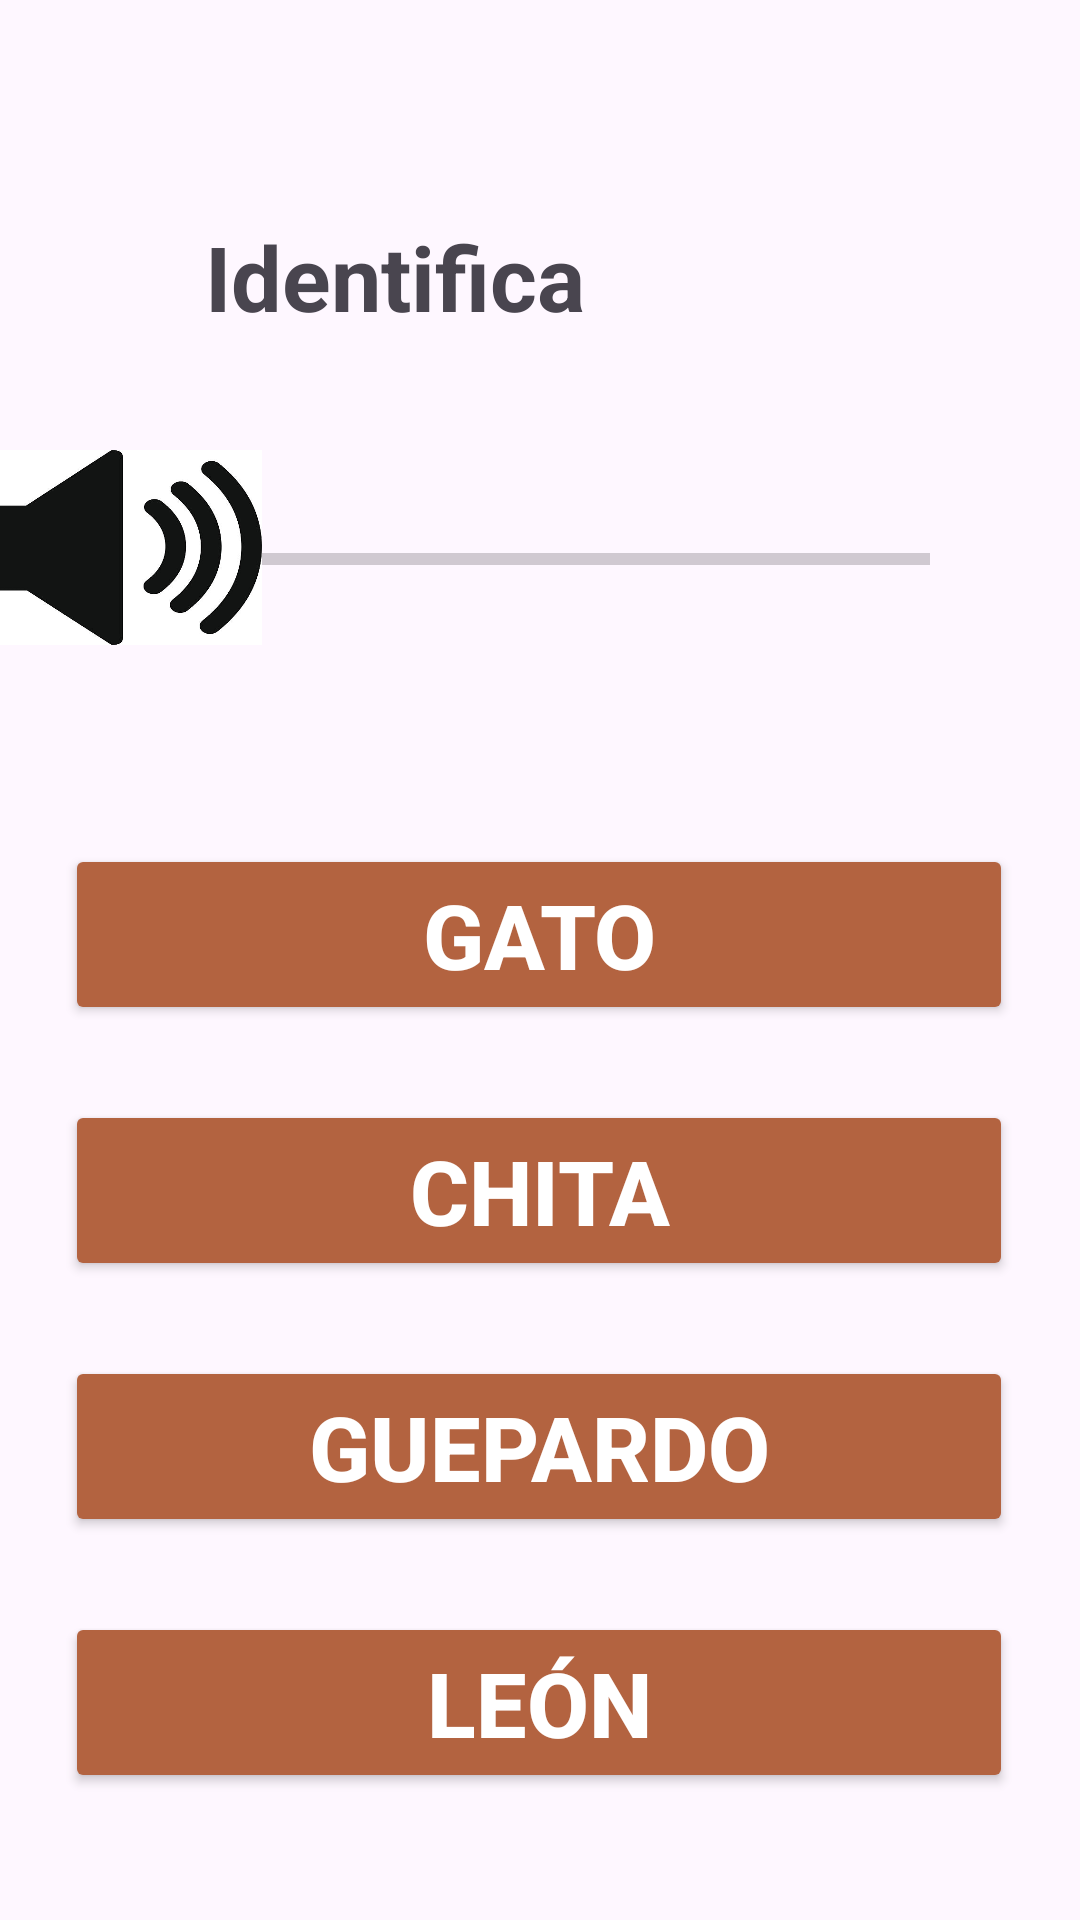

Named icons in this screenshot (1080 x 1920) and their bounding boxes, (x1, y1, x2, y2):
audio: (0, 450, 222, 645)
